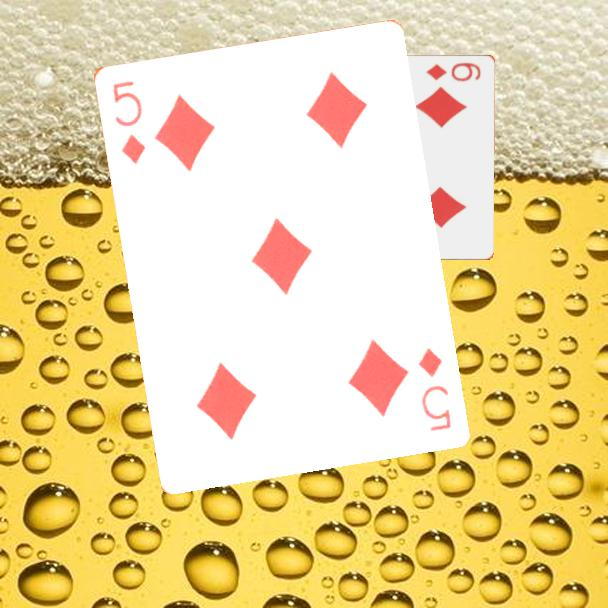d05: (414, 344, 454, 434), (108, 77, 148, 166)
d06: (422, 59, 483, 85)
